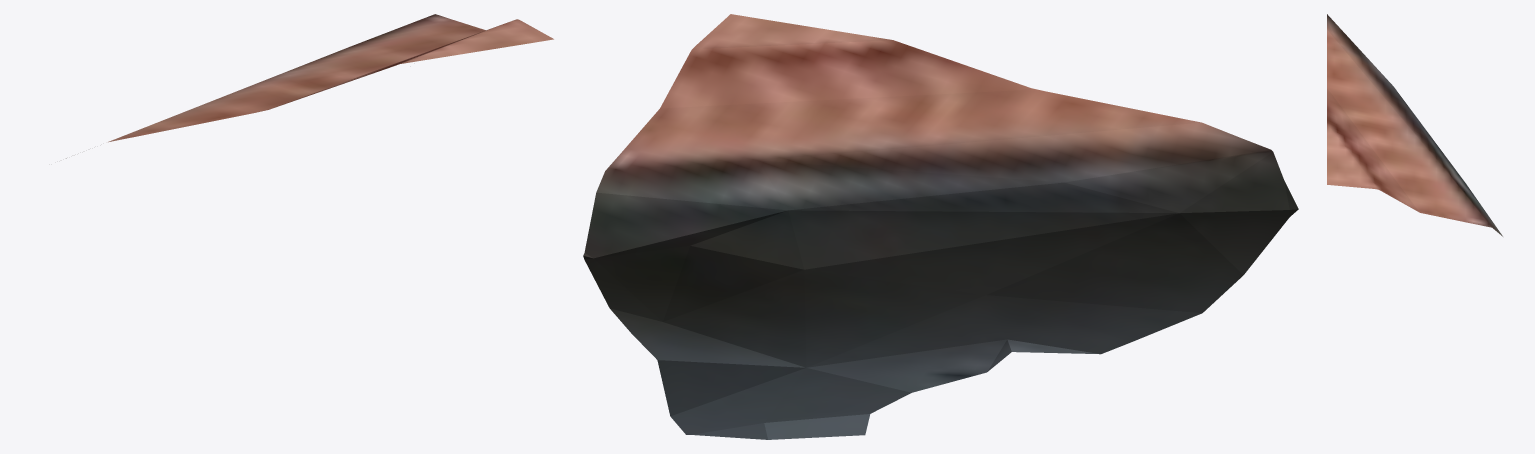
The picture shows the model from 3 angles, left to right: view 1: azimuth 30°, elevation 25°; view 2: azimuth 150°, elevation 25°; view 3: azimuth 270°, elevation 25°; orthographic projection. The views are drawn at different scales.
Bounding box in the file's own units: 1.43 × 0.9698 × 0.6451.
1 material, 1 textured.
